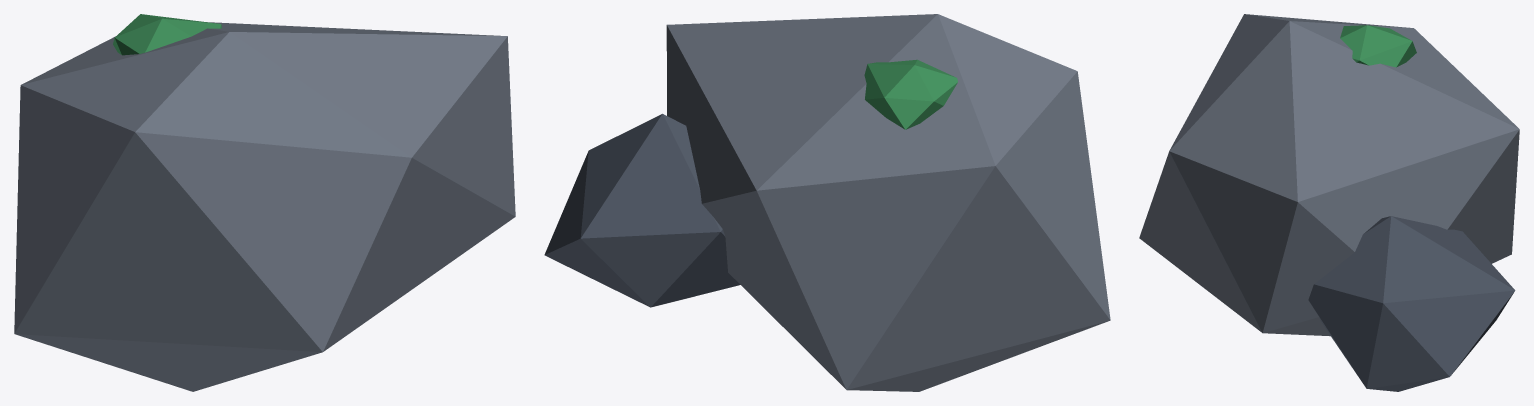
The model's file is u_sea_rock_big.glb.
3 renders of one model, left to right at view 1: azimuth 30°, elevation 25°; view 2: azimuth 150°, elevation 25°; view 3: azimuth 270°, elevation 25°, orthographic. The views are drawn at different scales.
Parts seen in each view (by area): view 1: sea_rock_big; view 2: sea_rock_big; view 3: sea_rock_big.
Part boxes in pixels (box(x1,y1,x2,y2)): sea_rock_big: box(14, 14, 515, 391); sea_rock_big: box(544, 14, 1110, 391); sea_rock_big: box(1139, 14, 1519, 391).
Bounding box in the file's own units: 1.38 × 0.9588 × 1.04.
